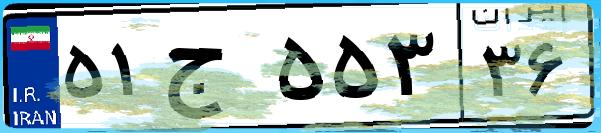1: (110, 28, 158, 98)
3: (385, 28, 445, 110), (475, 38, 525, 113)
5: (270, 28, 330, 110), (330, 28, 385, 110), (57, 26, 110, 100)
6: (525, 38, 570, 115)
ج: (158, 20, 270, 120)
